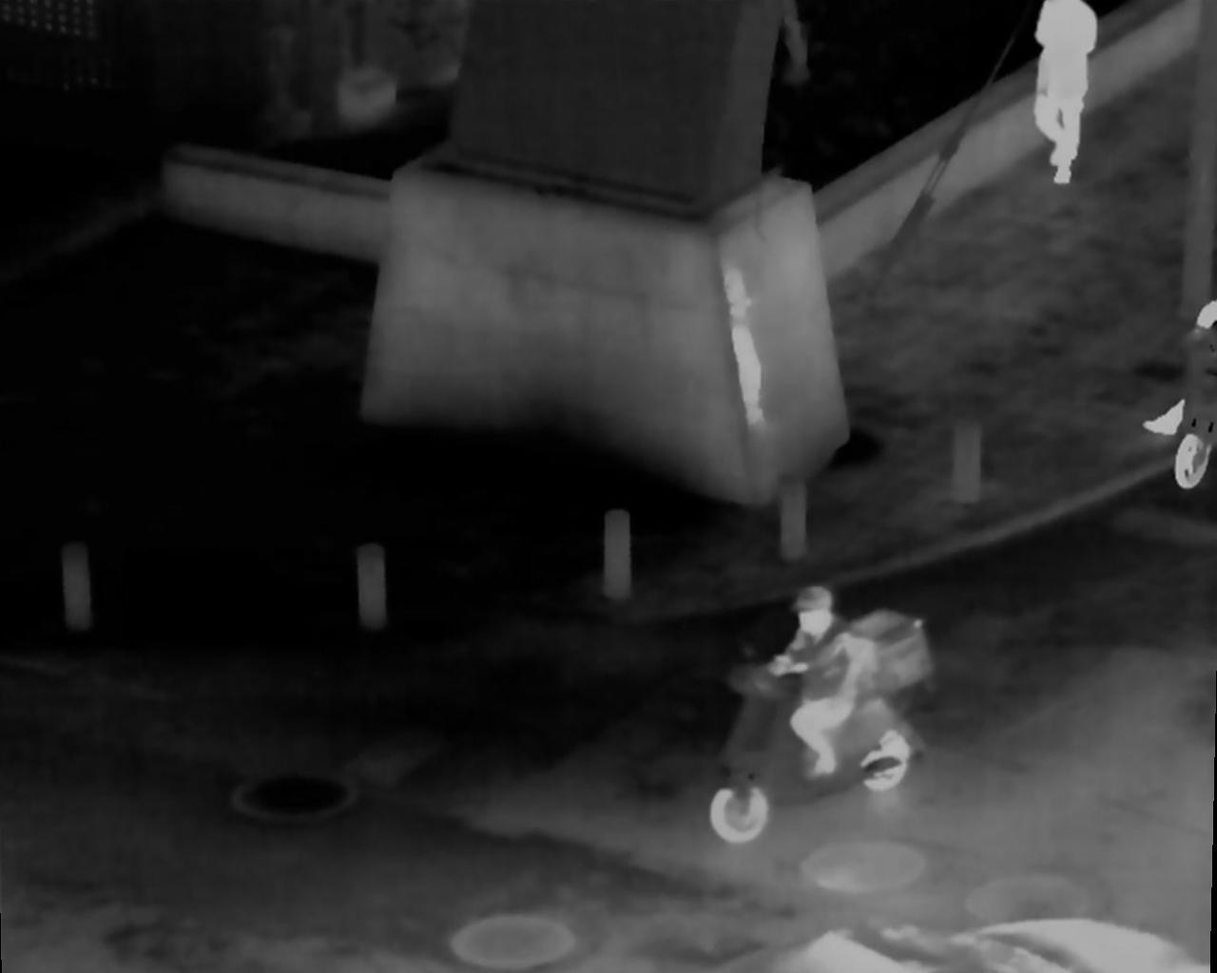person: (775, 584, 874, 793)
